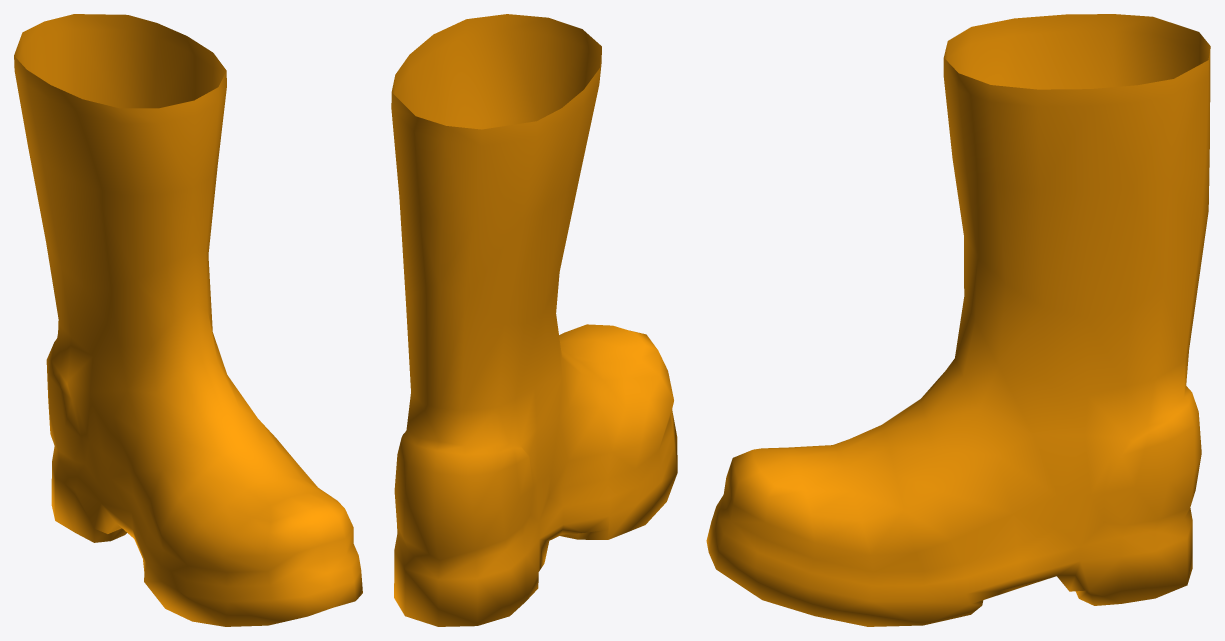
Rendered from STC_mining_boot.FBX.
3 views of the same model, side by side, from view 1: azimuth 30°, elevation 25°; view 2: azimuth 150°, elevation 25°; view 3: azimuth 270°, elevation 25° (orthographic). The views are drawn at different scales.
Visible parts, largest first — view 1: M_Boot_LR; view 2: M_Boot_LR; view 3: M_Boot_LR.
Boxes of the visible parts, box(x1,y1,x2,y2) form: M_Boot_LR: box(14, 14, 362, 626); M_Boot_LR: box(391, 14, 677, 626); M_Boot_LR: box(706, 14, 1210, 626).
Size of the model in its own units: 14.75 by 34.59 by 30.46.
